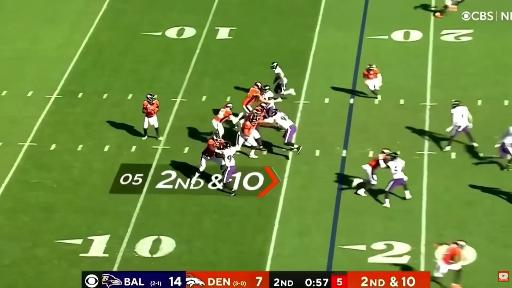Helmet: (212, 132, 221, 146), (452, 100, 464, 110), (456, 241, 467, 251), (147, 93, 156, 103), (250, 114, 258, 125), (367, 65, 376, 74), (382, 149, 392, 157), (390, 153, 399, 161), (270, 109, 279, 117), (223, 140, 231, 148), (271, 62, 279, 70), (263, 84, 270, 92), (225, 103, 234, 109), (255, 82, 262, 89), (260, 102, 267, 109)
Jersey: (451, 106, 469, 127), (202, 139, 223, 157), (272, 112, 294, 129), (387, 158, 405, 178), (443, 245, 461, 264), (243, 87, 260, 106), (222, 147, 237, 166), (143, 100, 159, 117), (242, 120, 258, 136), (215, 108, 232, 122), (368, 158, 381, 174), (262, 91, 274, 108), (502, 127, 511, 145), (363, 69, 379, 79), (273, 67, 284, 80), (263, 91, 273, 100)
Player: (352, 149, 390, 196), (444, 100, 478, 151), (264, 110, 301, 153), (192, 134, 224, 182), (433, 241, 466, 287), (384, 152, 411, 207), (236, 110, 262, 158), (217, 142, 237, 195), (212, 103, 242, 137), (143, 94, 162, 140), (242, 82, 267, 116), (271, 62, 295, 95), (363, 64, 382, 100), (496, 127, 511, 170), (261, 85, 282, 115), (445, 0, 461, 11)
